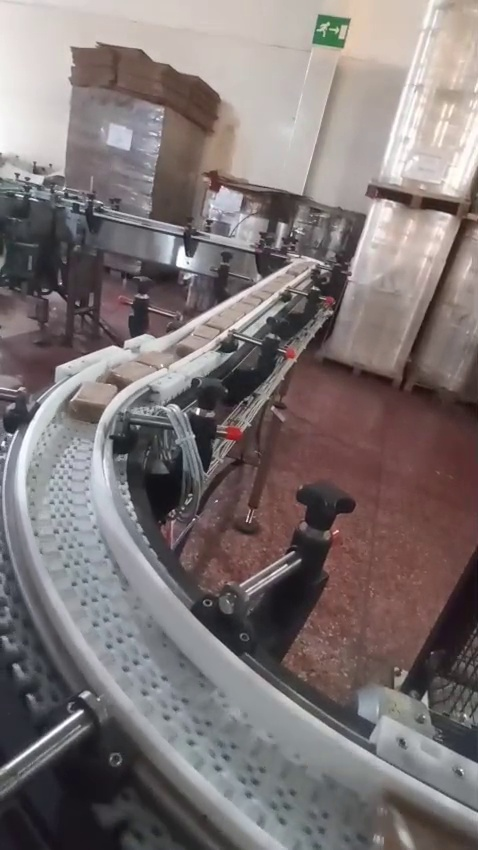savon: (157, 97, 236, 195), (388, 794, 464, 850), (442, 178, 478, 240), (340, 8, 362, 72), (128, 62, 178, 82), (432, 268, 454, 306), (368, 666, 400, 689), (78, 402, 102, 420), (384, 832, 401, 850), (417, 368, 430, 386)
